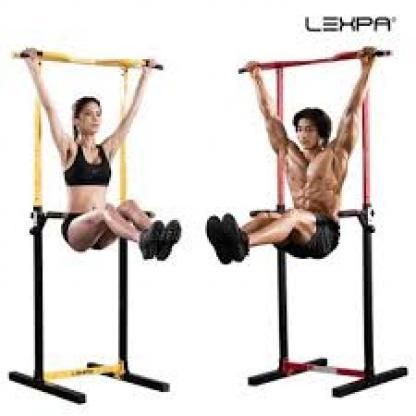chinning dipping: (226, 46, 407, 400), (9, 45, 169, 404)
